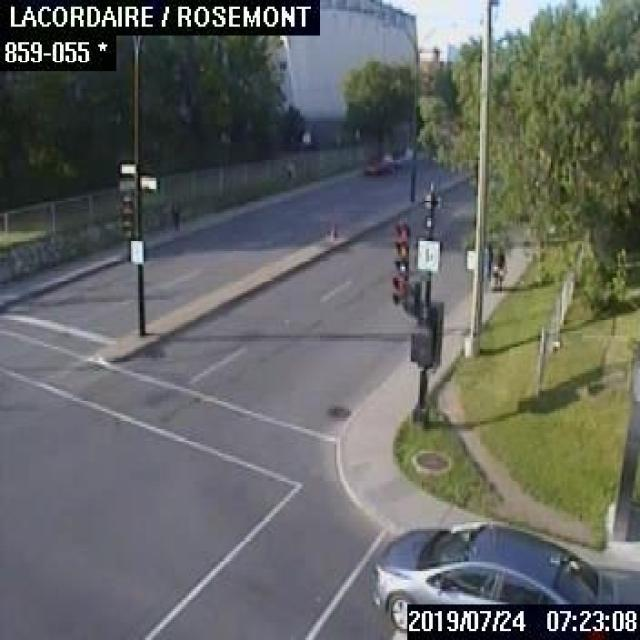pedestrian: (490, 247, 504, 290)
vehicle: (371, 521, 616, 633), (363, 152, 391, 173), (391, 146, 411, 165)
